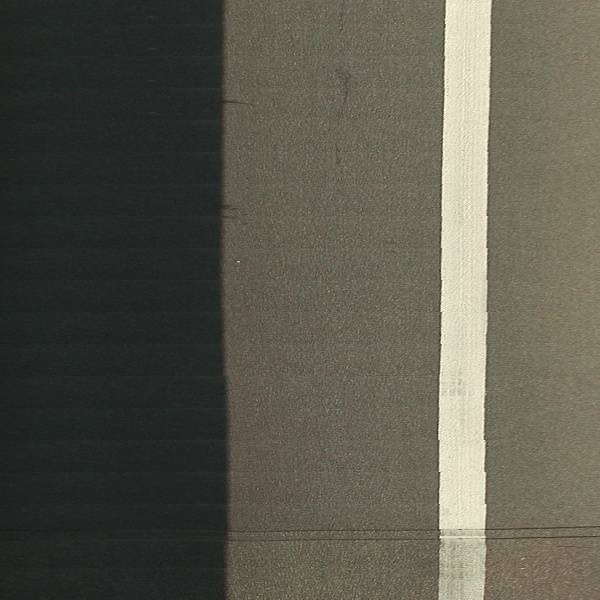road_damage: (237, 507, 600, 556)
